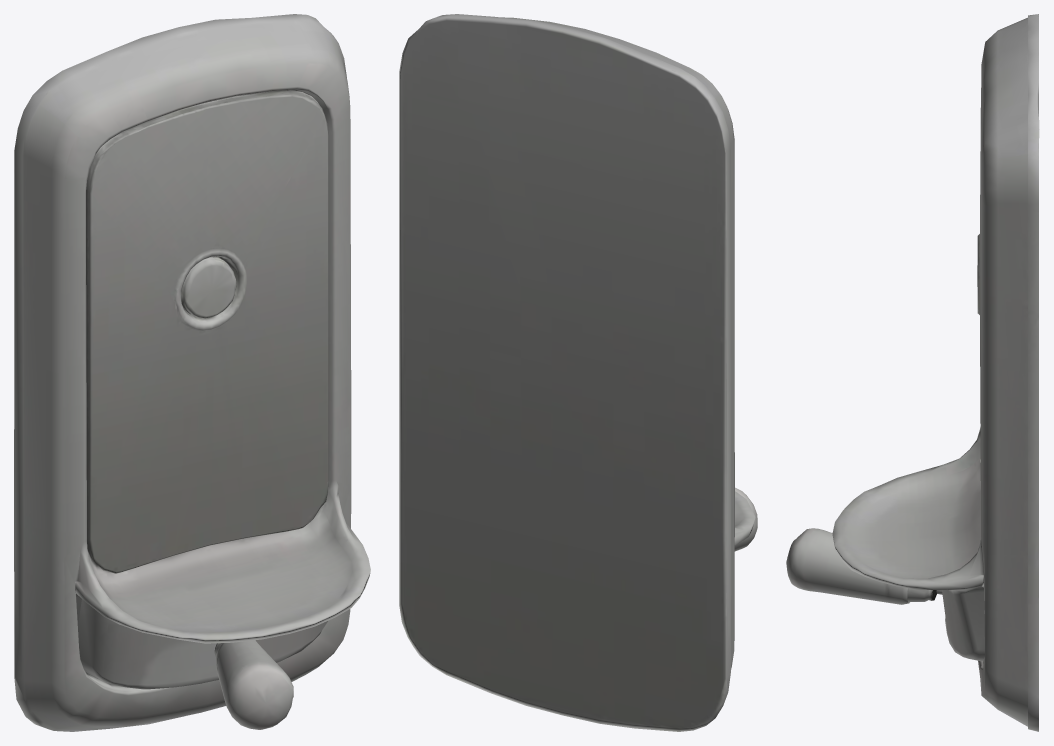
The model's file is water_fountain.glb.
The picture shows the model from 3 angles, left to right: view 1: azimuth 30°, elevation 25°; view 2: azimuth 150°, elevation 25°; view 3: azimuth 270°, elevation 25°; orthographic projection. The views are drawn at different scales.
Size of the model in its own units: 0.4766 by 0.9521 by 0.3437.
Materials: 1 (1 with a texture image).
